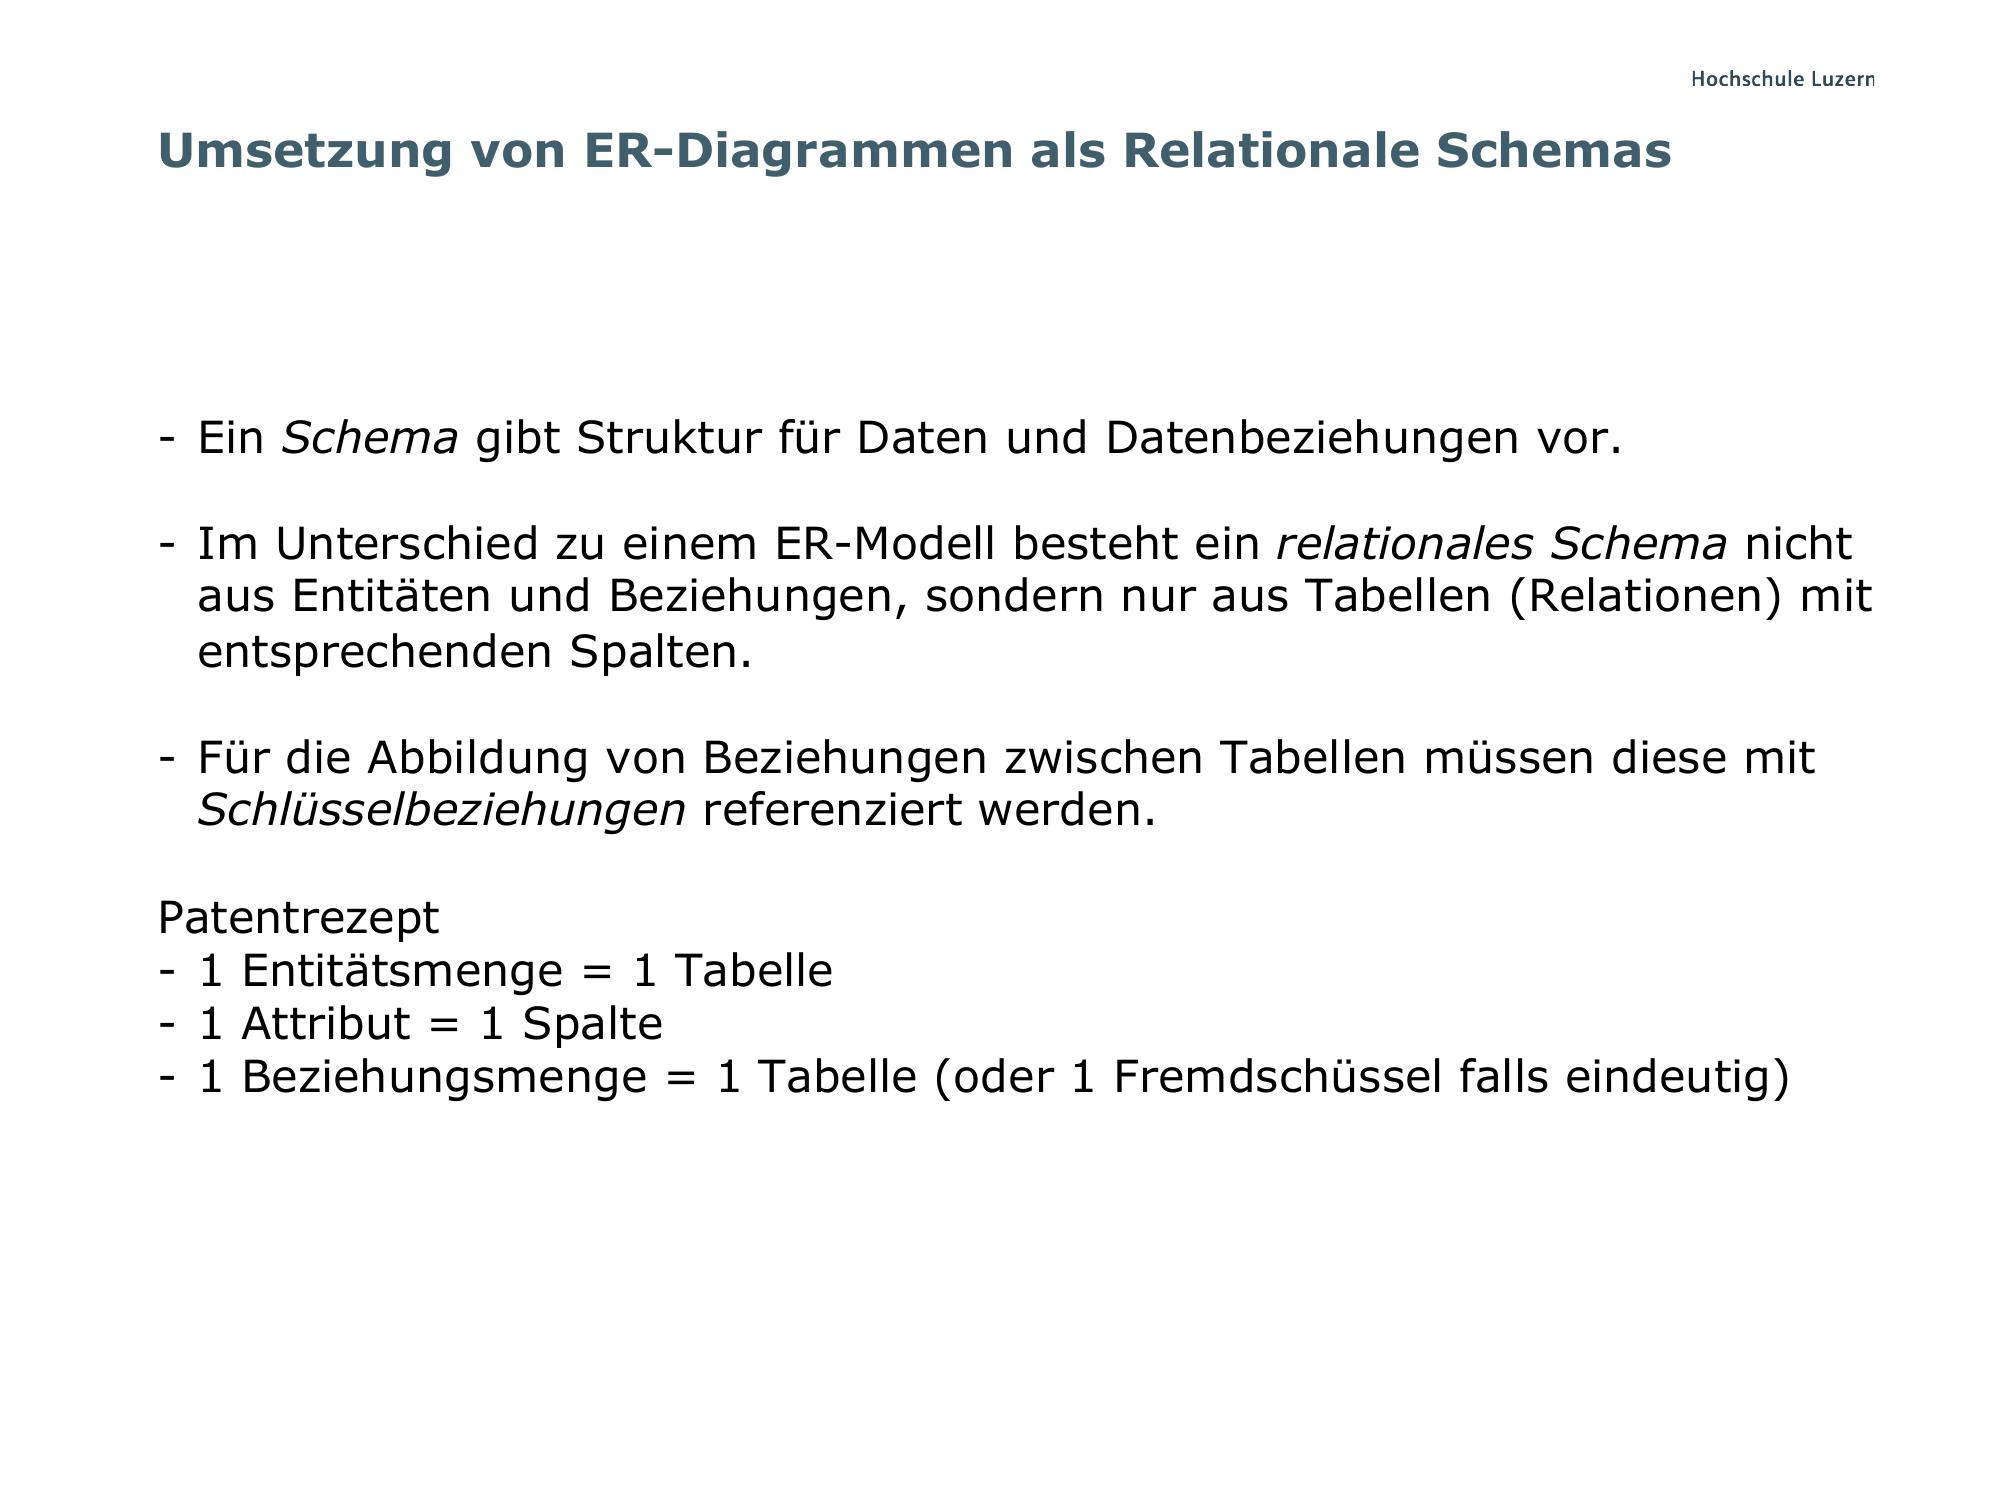Title: (139, 95, 1690, 199)
